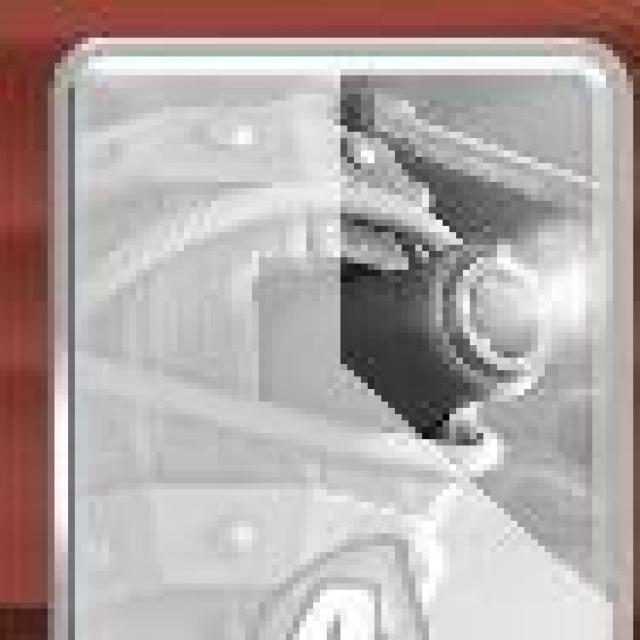Flying_Machine: (49, 40, 640, 640)
